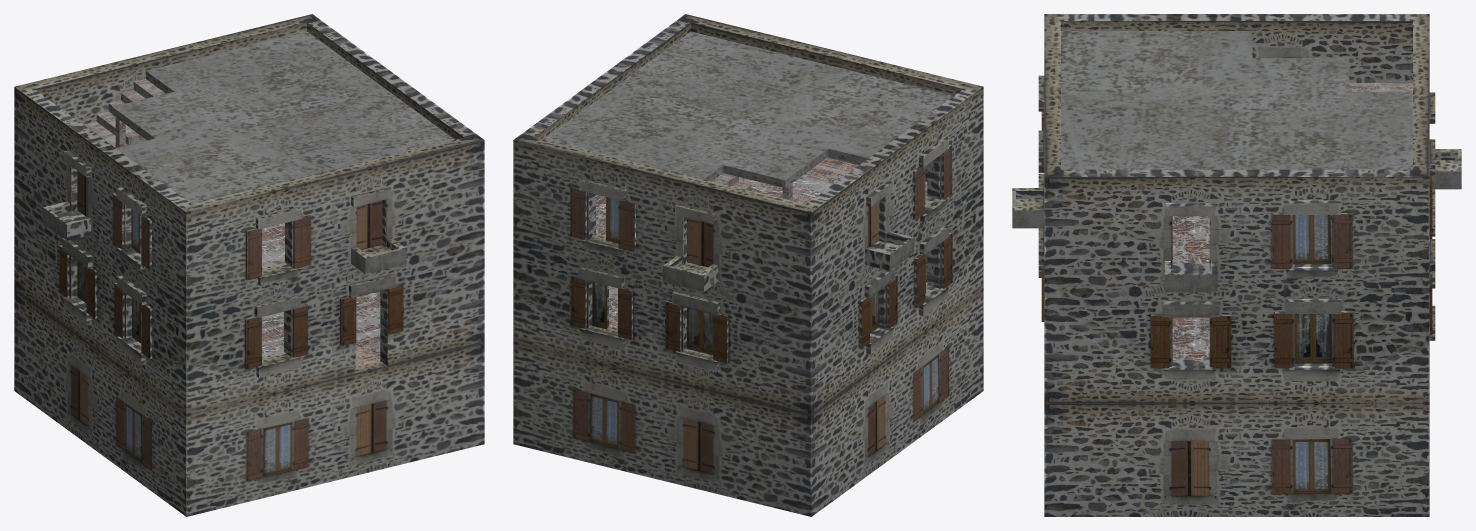
File: BagBuilding15_200.fbx
3 renders of one model, left to right at view 1: azimuth 30°, elevation 25°; view 2: azimuth 150°, elevation 25°; view 3: azimuth 270°, elevation 25°, orthographic. The views are drawn at different scales.
Visible parts, largest first — view 1: main200, mainFlip200, roof200, stairs200; view 2: main200, mainFlip200, roof200, stairs200; view 3: mainFlip200, roof200, main200, stairs200.
Part boxes in pixels (x1,y1,x2,y2): main200: (14,14,484,516); mainFlip200: (14,22,306,516); roof200: (112,31,454,203); stairs200: (84,79,380,366); main200: (513,14,983,516); mainFlip200: (691,22,983,516); roof200: (543,31,953,187); stairs200: (596,157,927,328); mainFlip200: (1044,176,1429,516); roof200: (1061,31,1412,169); main200: (1012,14,1461,366); stairs200: (1172,83,1412,359).
Size of the model in its own units: 19.63 by 16.39 by 19.62.
